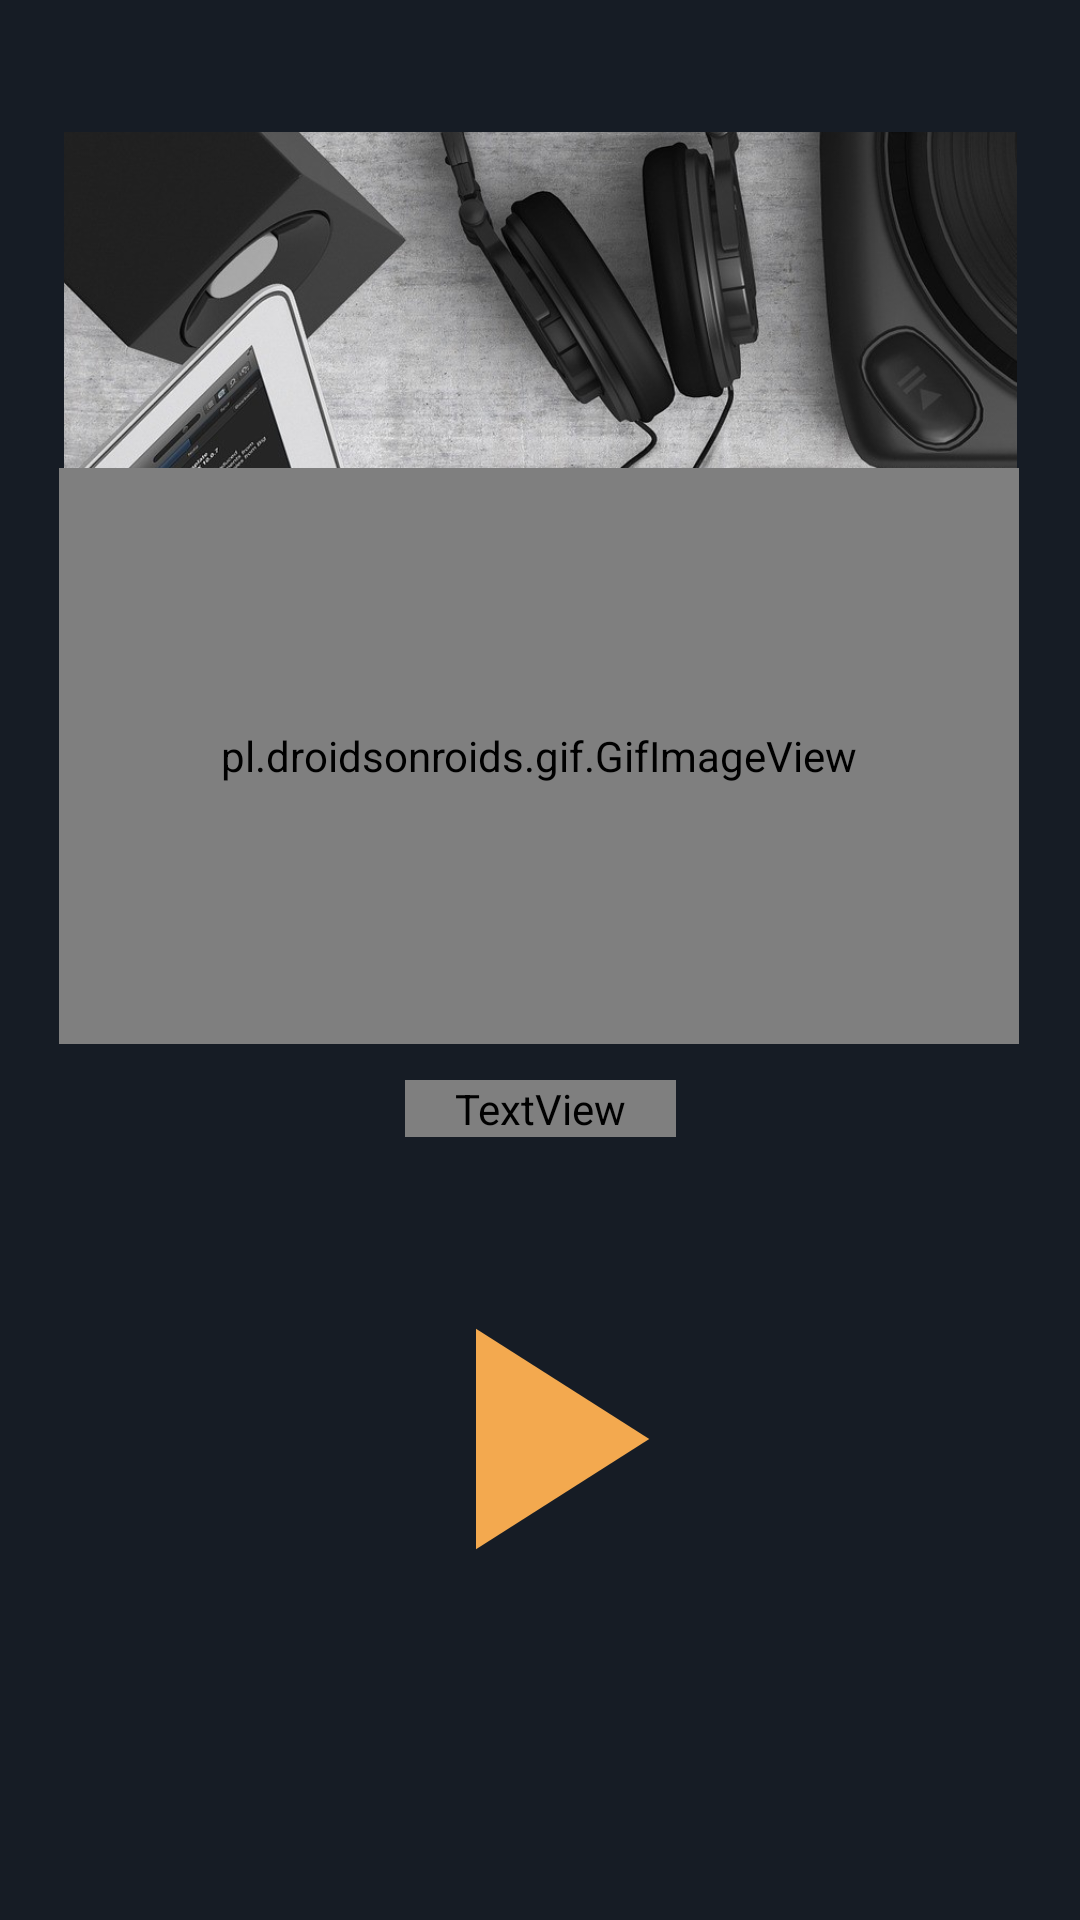

Named icons in this screenshot (1080 × 1920) and their bounding boxes, (x1, y1, x2, y2):
play arrow: (476, 1329, 649, 1549)
